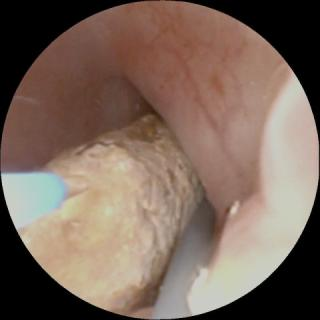fiber: (4, 174, 66, 227)
stone: (19, 114, 204, 312)
tissue: (7, 6, 316, 289)
